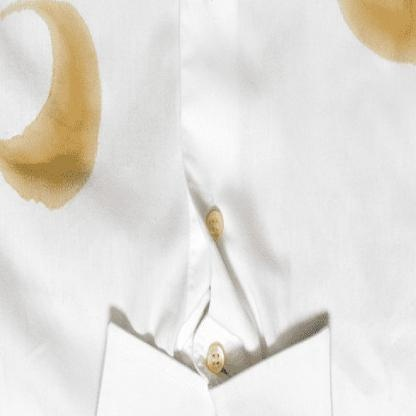coffee: (13, 131, 90, 192), (56, 30, 98, 117), (368, 1, 415, 53)
